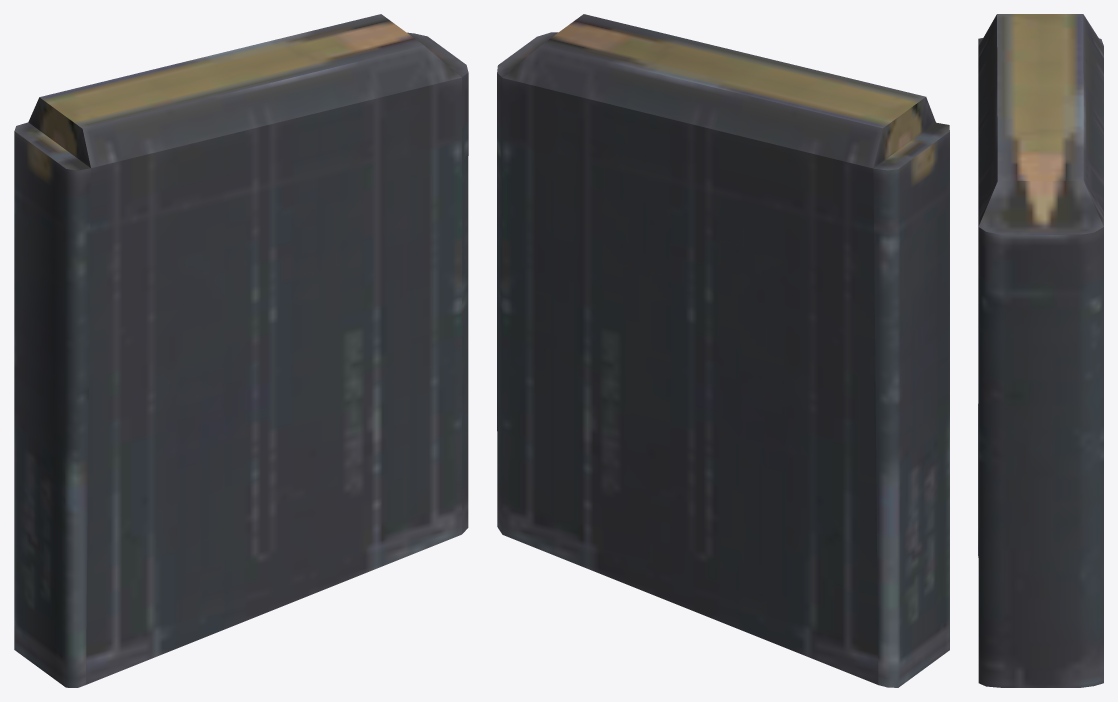
File: ST_WEP_SLR_Mag.FBX
The picture shows the model from 3 angles, left to right: view 1: azimuth 30°, elevation 25°; view 2: azimuth 150°, elevation 25°; view 3: azimuth 270°, elevation 25°; orthographic projection.
Visible parts, largest first — view 1: ST_WEP_SLR_Mag; view 2: ST_WEP_SLR_Mag; view 3: ST_WEP_SLR_Mag.
Part boxes in pixels (bbox=[...]): ST_WEP_SLR_Mag: bbox=[14, 14, 468, 687]; ST_WEP_SLR_Mag: bbox=[497, 14, 949, 687]; ST_WEP_SLR_Mag: bbox=[978, 14, 1103, 687].
Bounding box in the file's own units: 8.25 × 10.69 × 2.21.
Materials: 1 (1 with a texture image).
